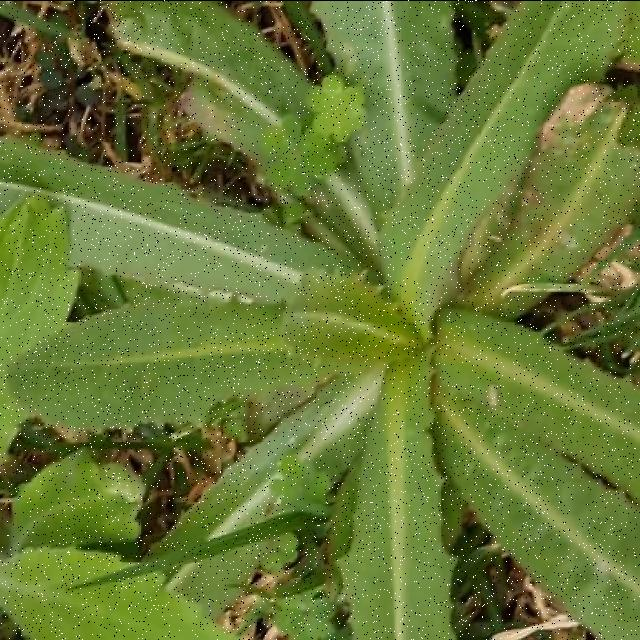weed: (0, 0, 640, 640), (109, 2, 310, 171)
